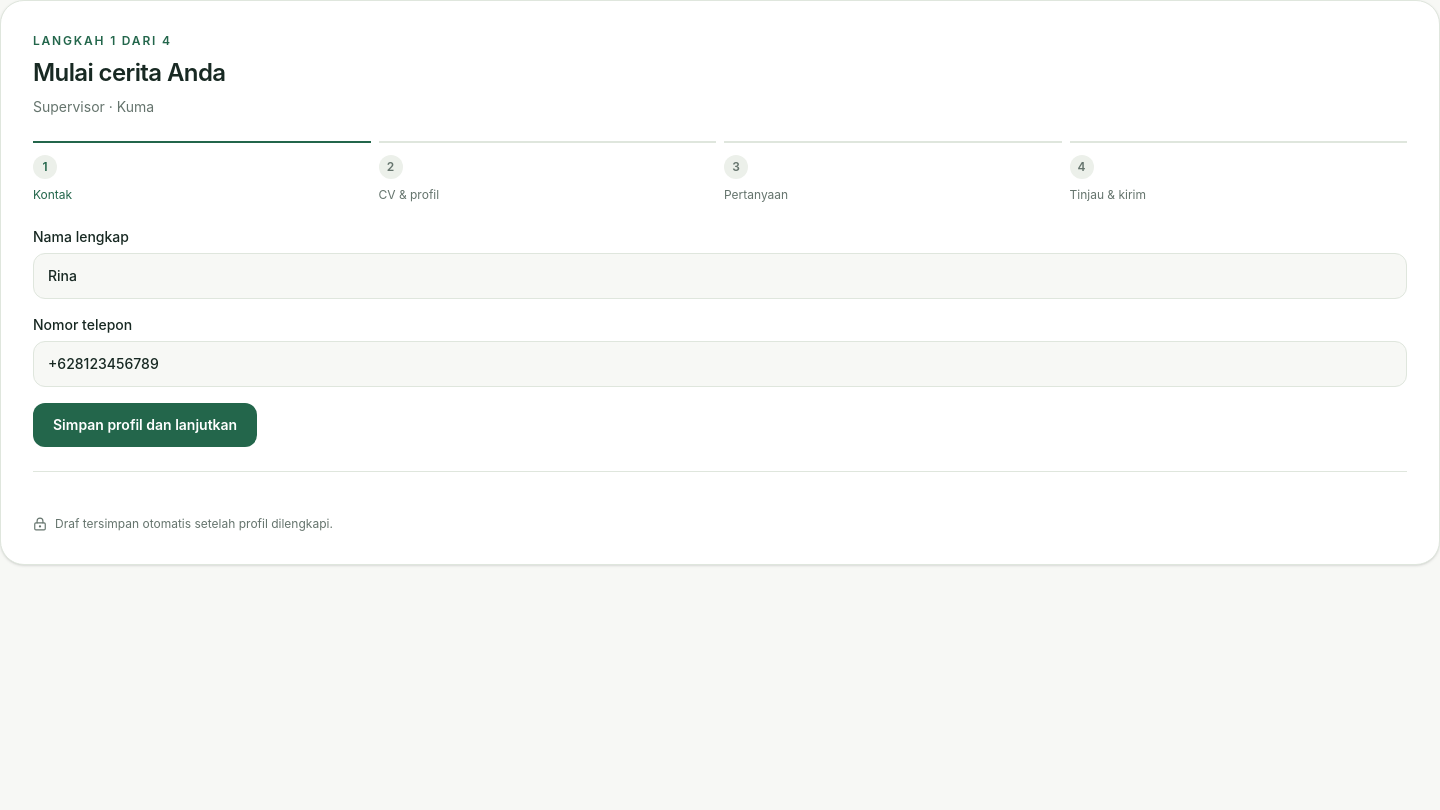
Test: application conflicts remain visible and preserve candidate entries
Click the button "Simpan profil dan lanjutkan". click: click(145, 425)
box: [33,403,257,447]
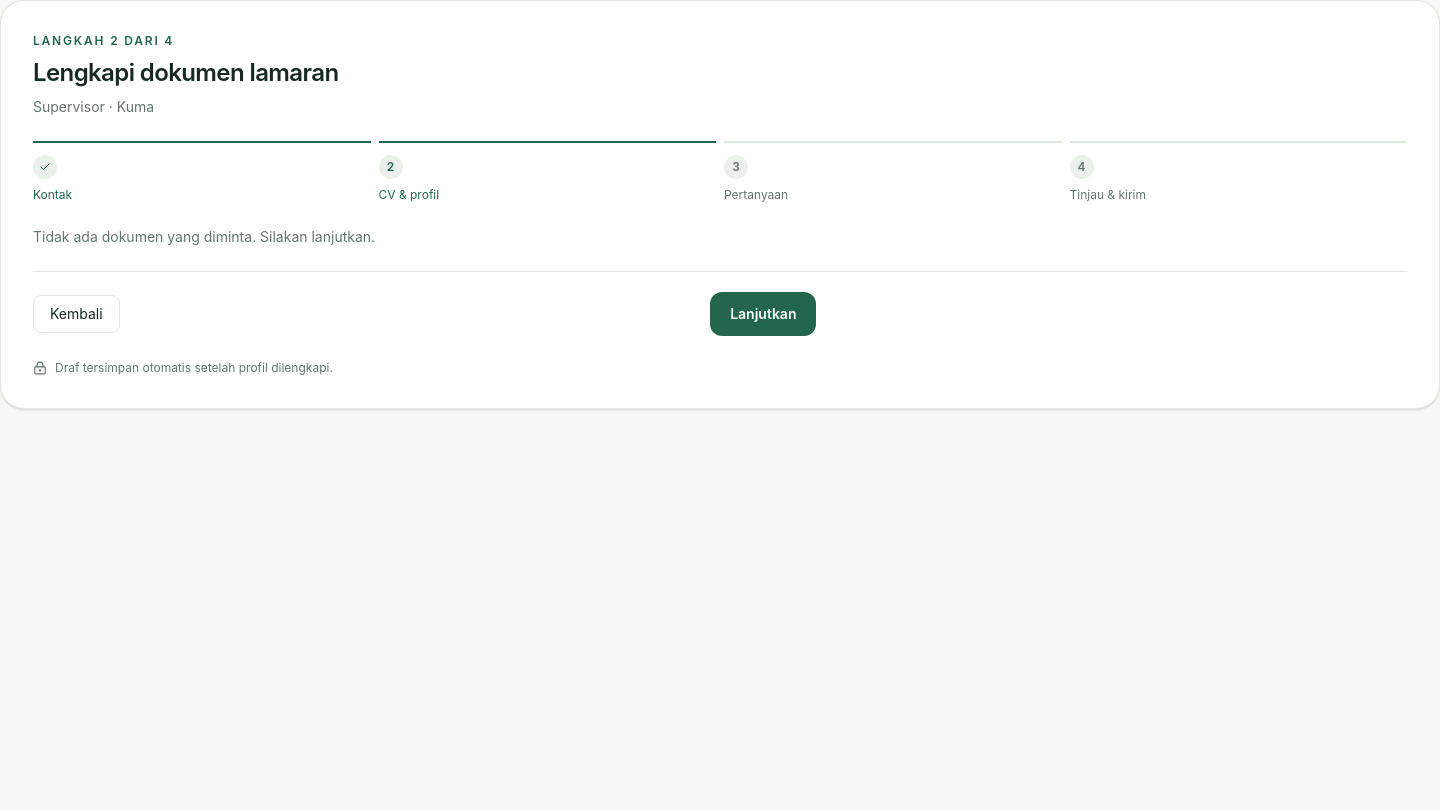
Expected: the button "Lanjutkan" is shown
Click the button "Lanjutkan". click: click(763, 314)
box: [710,292,816,336]
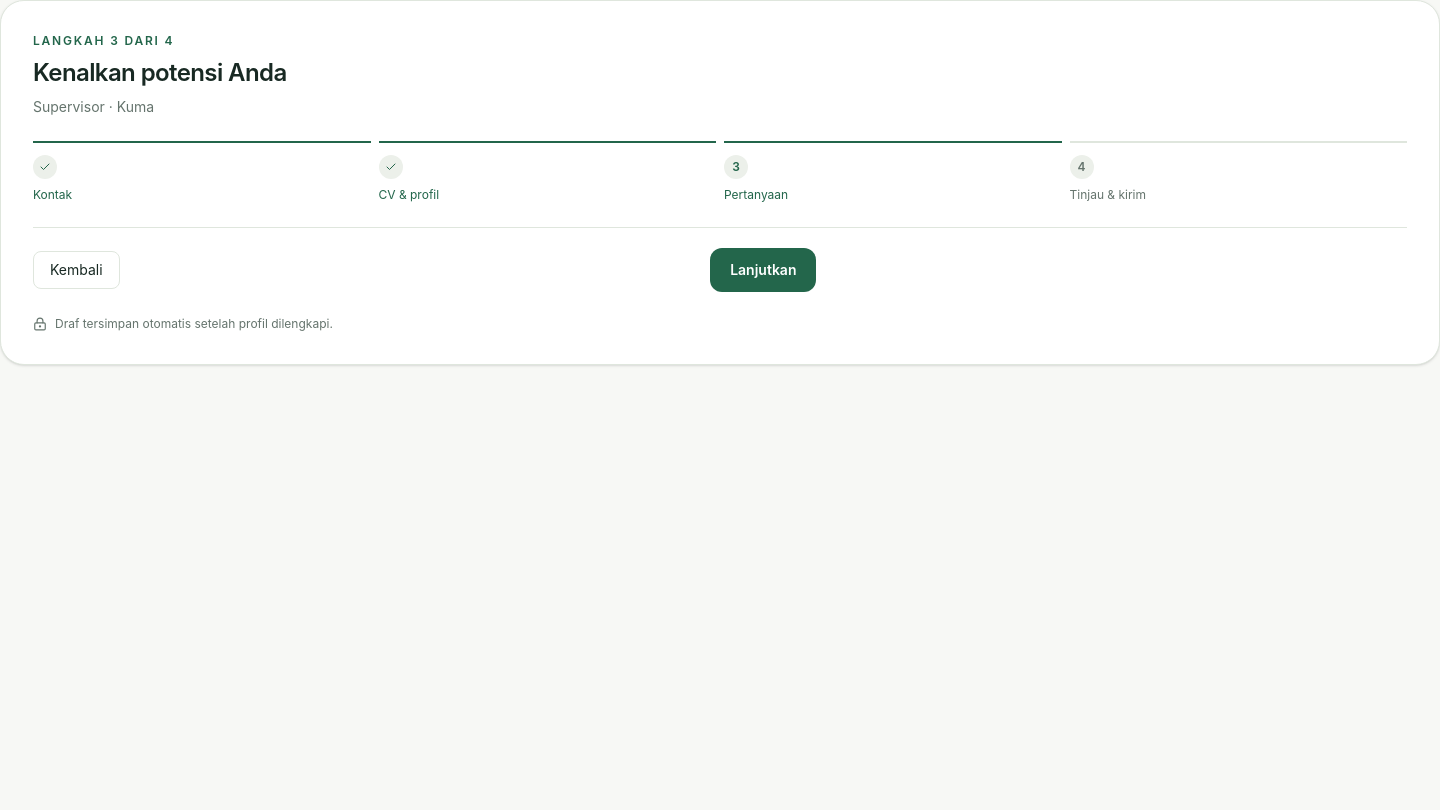
Click the button "Lanjutkan". click: click(763, 270)
box: [710,248,816,292]
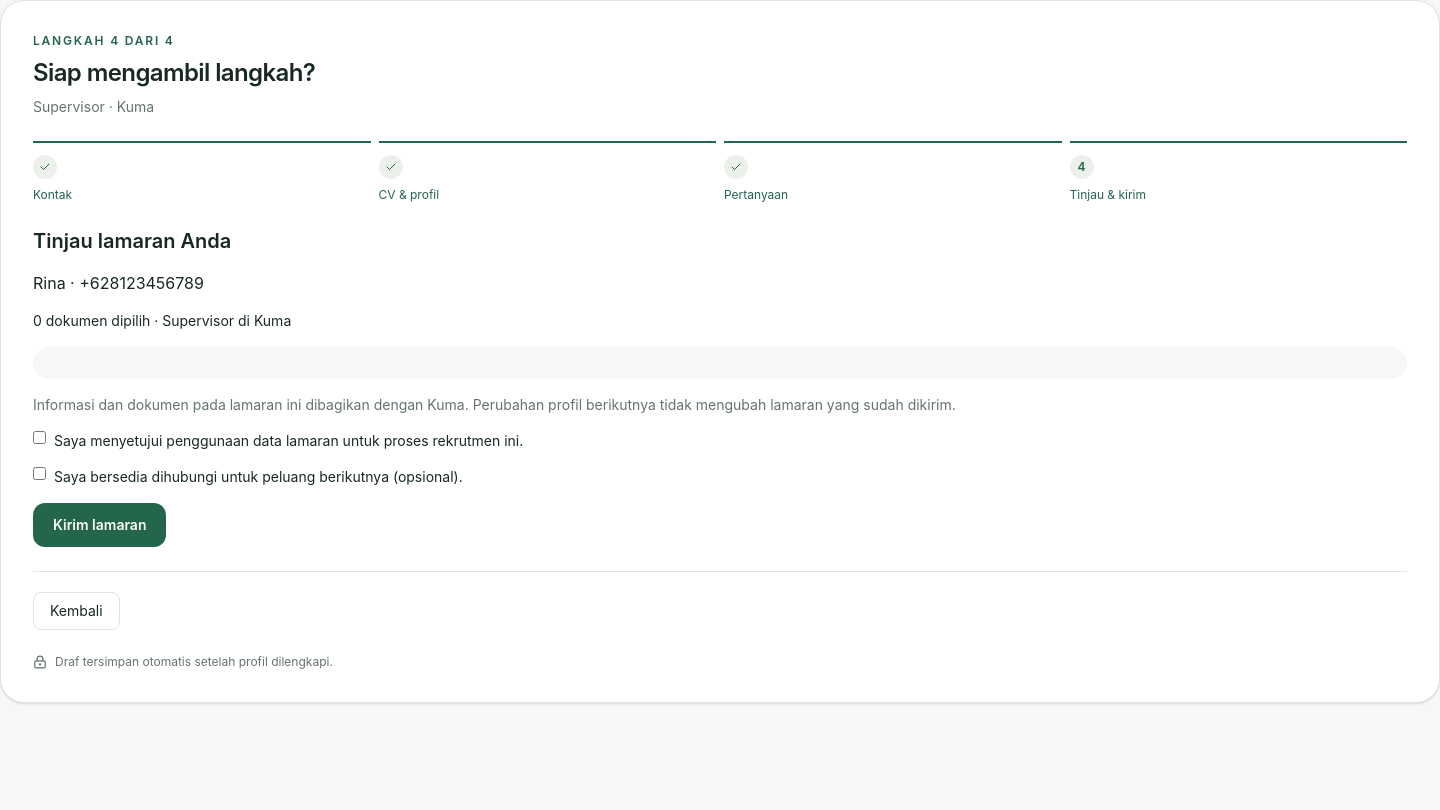
Click the checkbox labelled "Saya menyetujui penggunaan". click: click(40, 438)
box: [33,431,46,444]
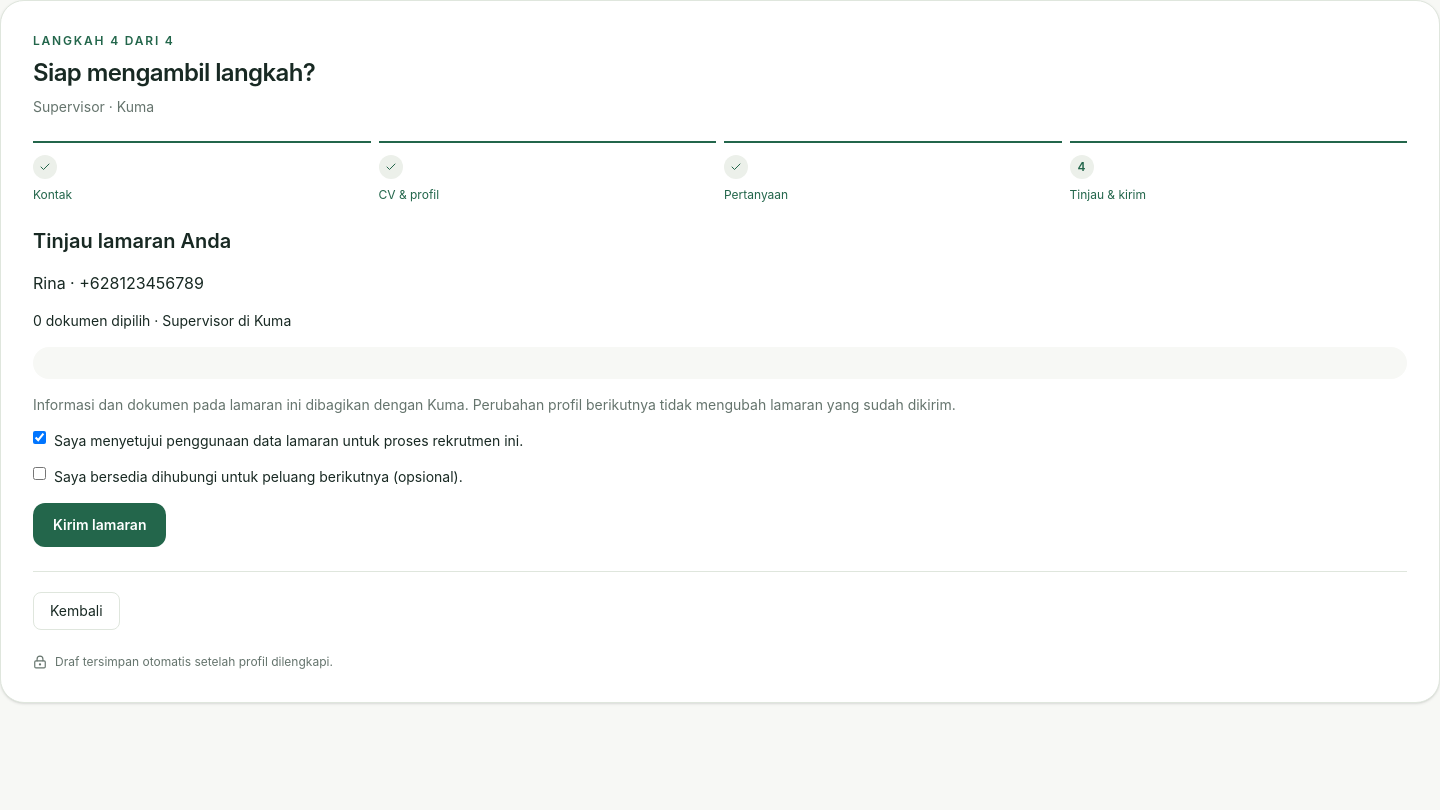
Click the button "Kirim lamaran". click: click(100, 525)
box: [33,503,166,547]
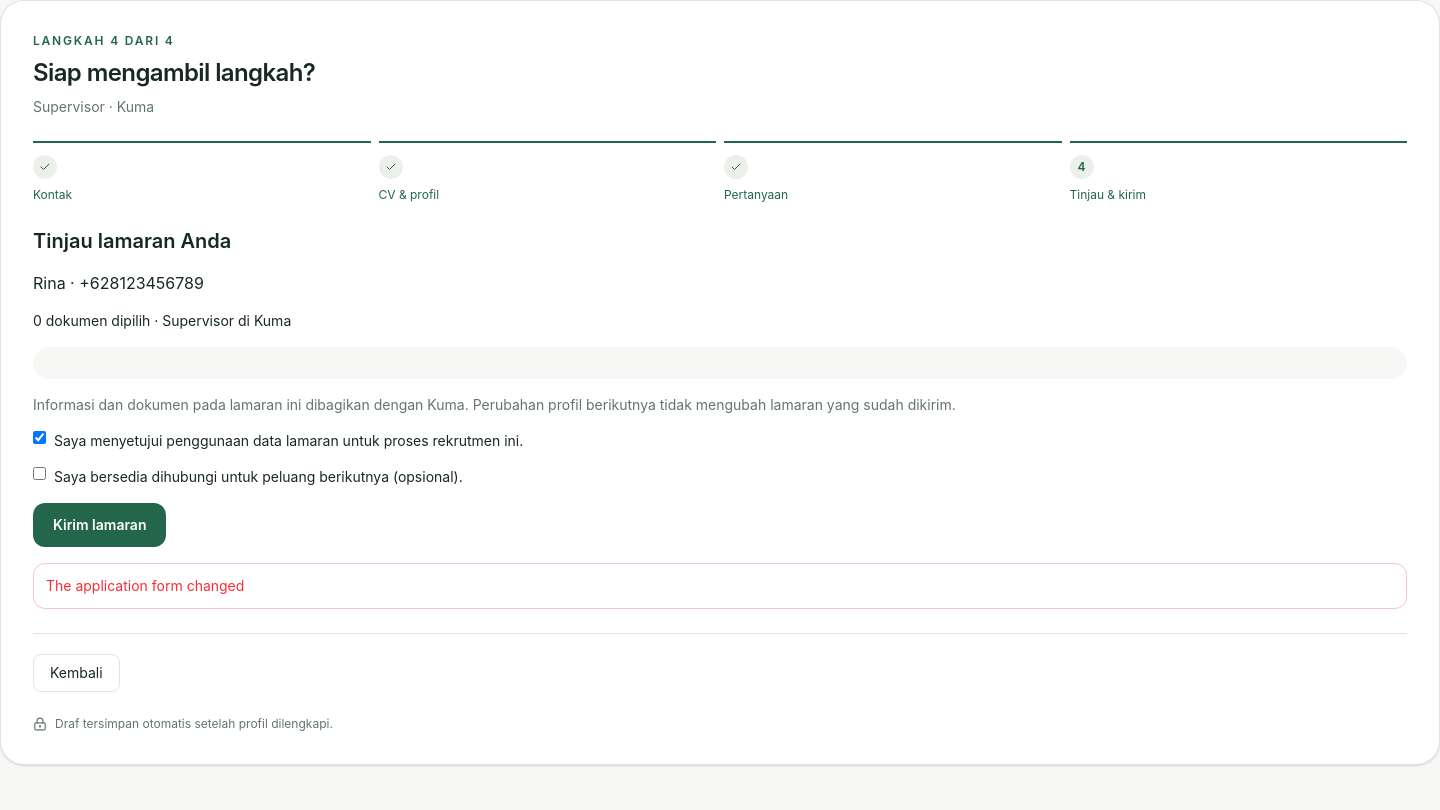
Expected: the text "Rina · +628123456789" is shown, [33,273,204,293]
Expected: the text "The application form changed" is shown, [33,563,1407,609]
